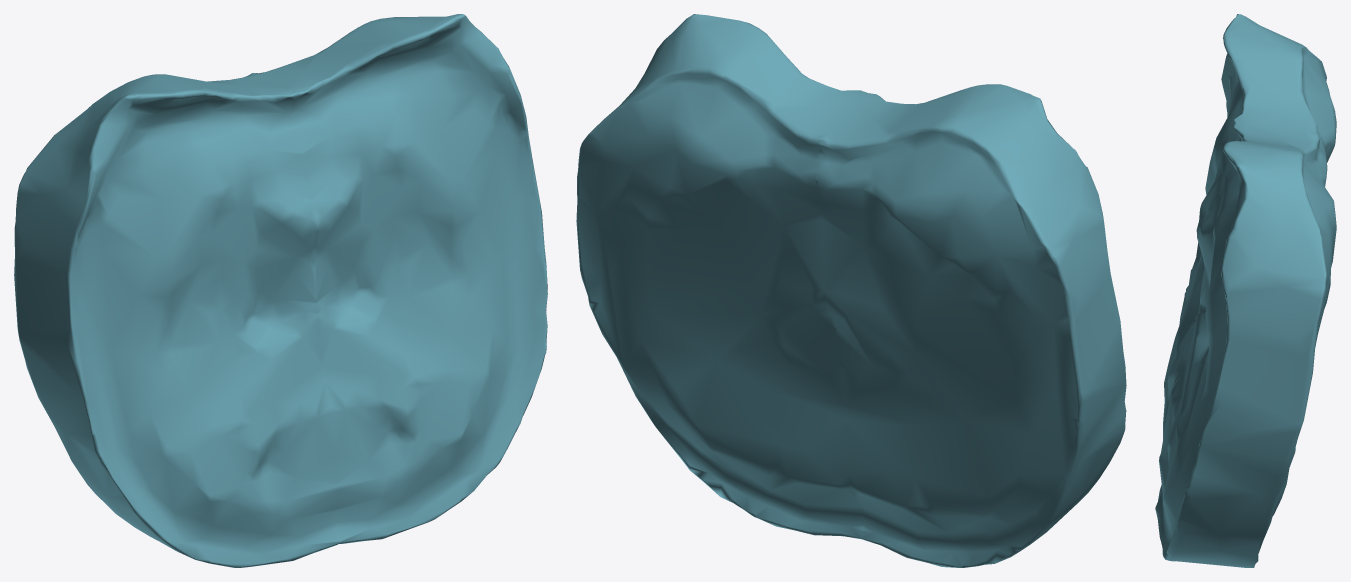
The picture shows the model from 3 angles, left to right: view 1: azimuth 30°, elevation 25°; view 2: azimuth 150°, elevation 25°; view 3: azimuth 270°, elevation 25°; orthographic projection. The views are drawn at different scales.
Parts seen in each view (by area): view 1: 胸8—胸9椎间盘; view 2: 胸8—胸9椎间盘; view 3: 胸8—胸9椎间盘.
Boxes of the visible parts, x1=… form: 胸8—胸9椎间盘: x1=14, y1=14, x2=547, y2=567; 胸8—胸9椎间盘: x1=576, y1=14, x2=1126, y2=567; 胸8—胸9椎间盘: x1=1155, y1=14, x2=1336, y2=567.
Bounding box in the file's own units: 0.0563 × 0.0522 × 0.0197.
